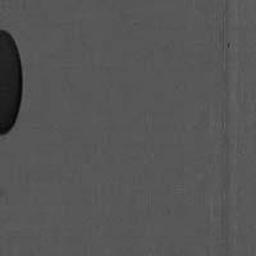Punching: (0, 30, 23, 135)
